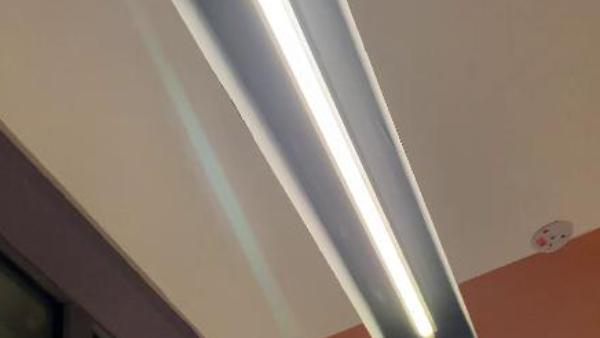light_on: (221, 0, 526, 338)
